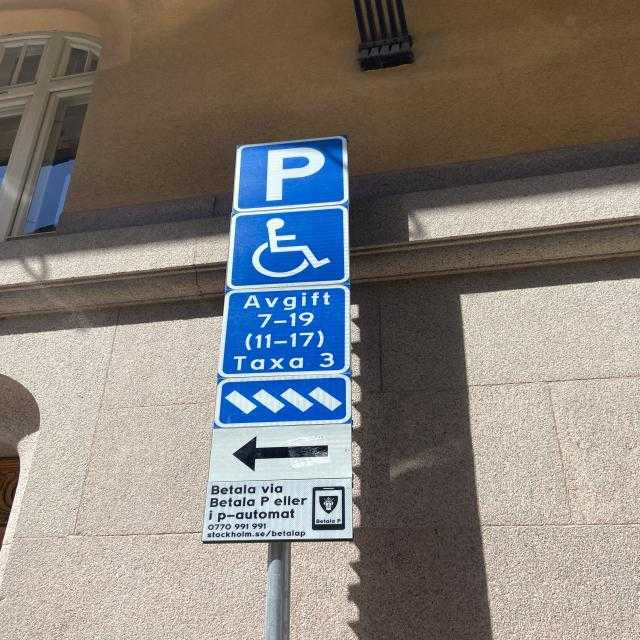lastplats: (235, 135, 348, 214)
